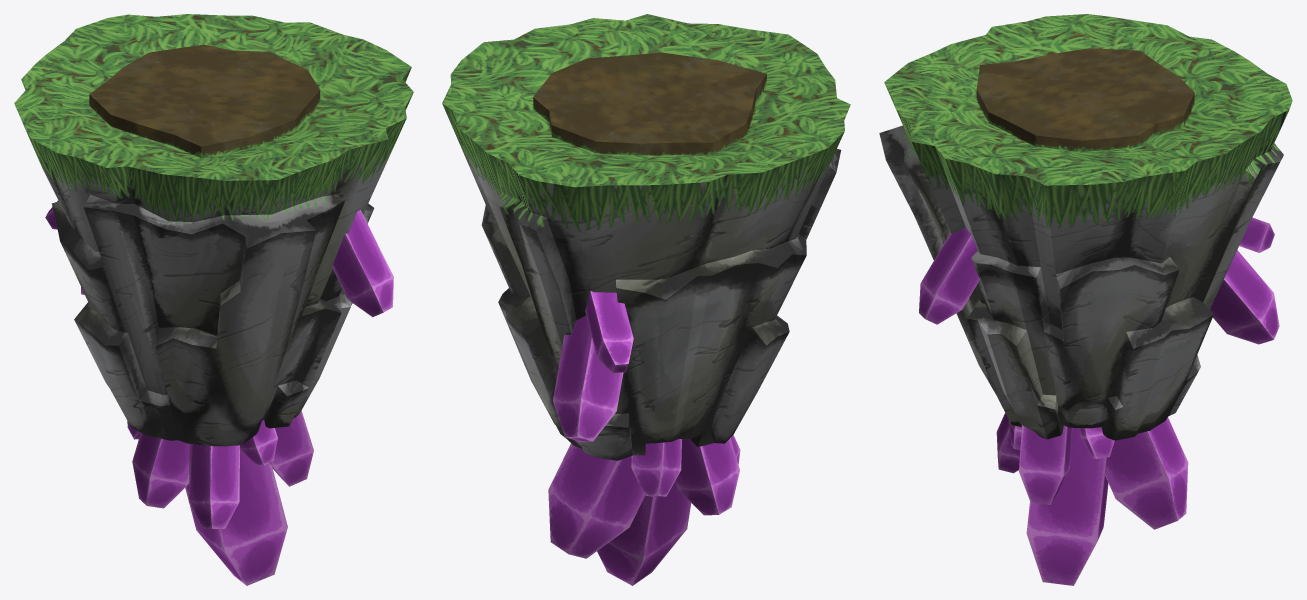
Rendered from FloatingIsland_Geo.fbx.
The picture shows the model from 3 angles, left to right: view 1: azimuth 30°, elevation 25°; view 2: azimuth 150°, elevation 25°; view 3: azimuth 270°, elevation 25°; orthographic projection. The views are drawn at different scales.
Parts seen in each view (by area): view 1: FloatingIsland_Geo; view 2: FloatingIsland_Geo; view 3: FloatingIsland_Geo.
Boxes of the visible parts, x1,y1,x2,y2 form: FloatingIsland_Geo: (14,14,413,585); FloatingIsland_Geo: (442,14,850,585); FloatingIsland_Geo: (879,14,1292,585).
Bounding box in the file's own units: 441 × 569 × 449.
